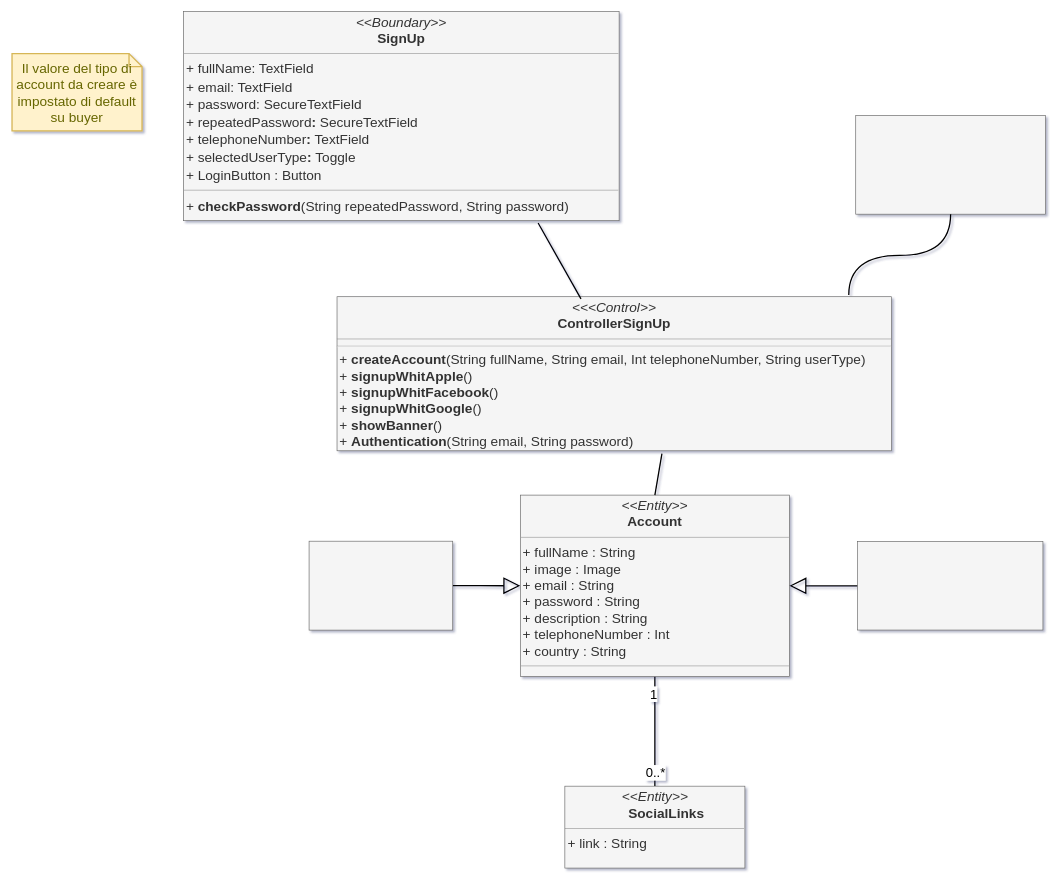
Image size: 1061x883. Some labels were removed from this diagram. The box of each missing label's shape, as (x1, y1, x2, y2) in pixels:
<<Boundary>> FeedbackSignUp + message : String: (855, 115, 1046, 214)
<<Entity>> Buyer: (857, 541, 1043, 630)
<<Entity>> Seller: (308, 541, 453, 630)
